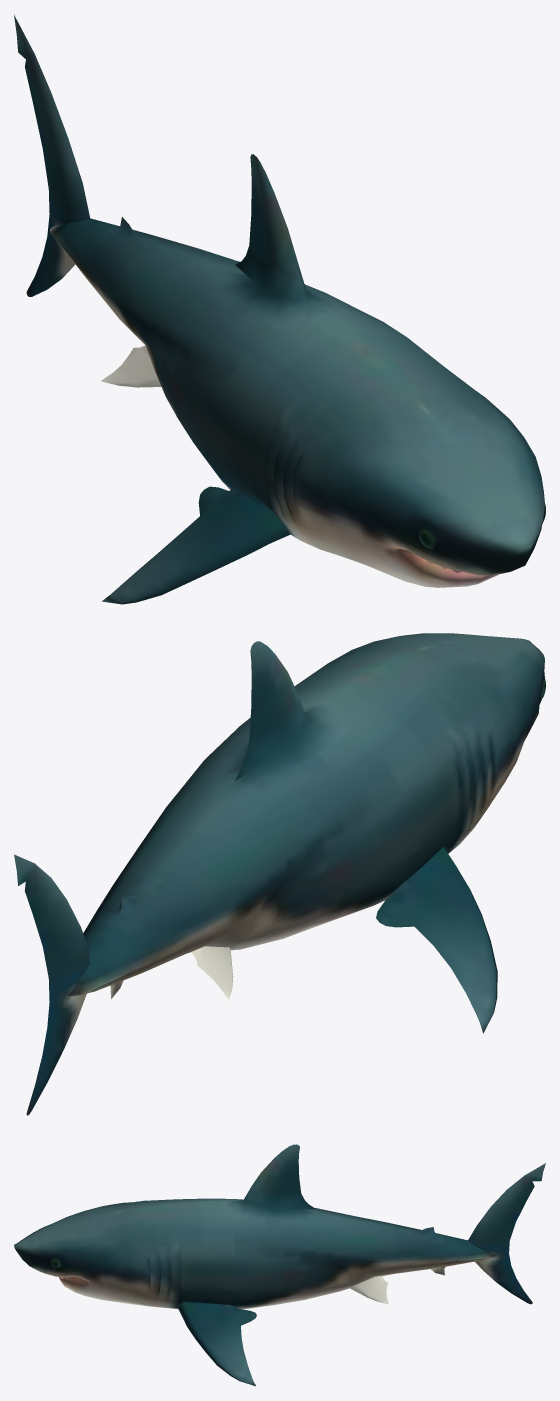
File: great-white-shark.glb
3 renders of one model, top to bottom at view 1: azimuth 30°, elevation 25°; view 2: azimuth 150°, elevation 25°; view 3: azimuth 270°, elevation 25°, orthographic. The views are drawn at different scales.
Size of the model in its own units: 12.87 by 11.99 by 29.86.
1 material, 1 textured.
